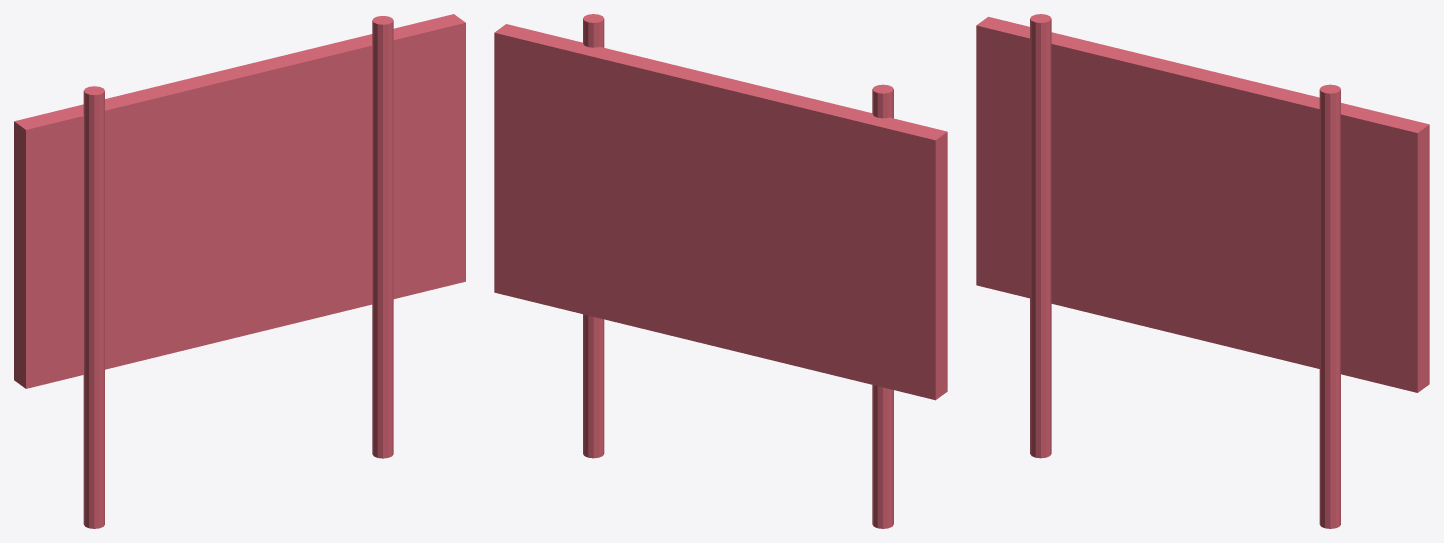
File: signboard.fbx
3 views of the same model, side by side, from view 1: azimuth 30°, elevation 25°; view 2: azimuth 150°, elevation 25°; view 3: azimuth 330°, elevation 25° (orthographic).
Visible parts, largest first — view 1: Cube, Cylinder.003, Cylinder.002; view 2: Cube, Cylinder.003, Cylinder.002; view 3: Cube, Cylinder.002, Cylinder.003.
Boxes of the visible parts, x1=… form: Cube: x1=14, y1=14, x2=465, y2=388; Cylinder.003: x1=372, y1=16, x2=393, y2=458; Cylinder.002: x1=83, y1=86, x2=104, y2=528; Cube: x1=494, y1=24, x2=947, y2=400; Cylinder.003: x1=583, y1=14, x2=604, y2=458; Cylinder.002: x1=872, y1=84, x2=893, y2=528; Cube: x1=976, y1=16, x2=1429, y2=392; Cylinder.002: x1=1030, y1=14, x2=1051, y2=458; Cylinder.003: x1=1319, y1=84, x2=1340, y2=528.
Bounding box in the file's own units: 924 × 871 × 70.25.
